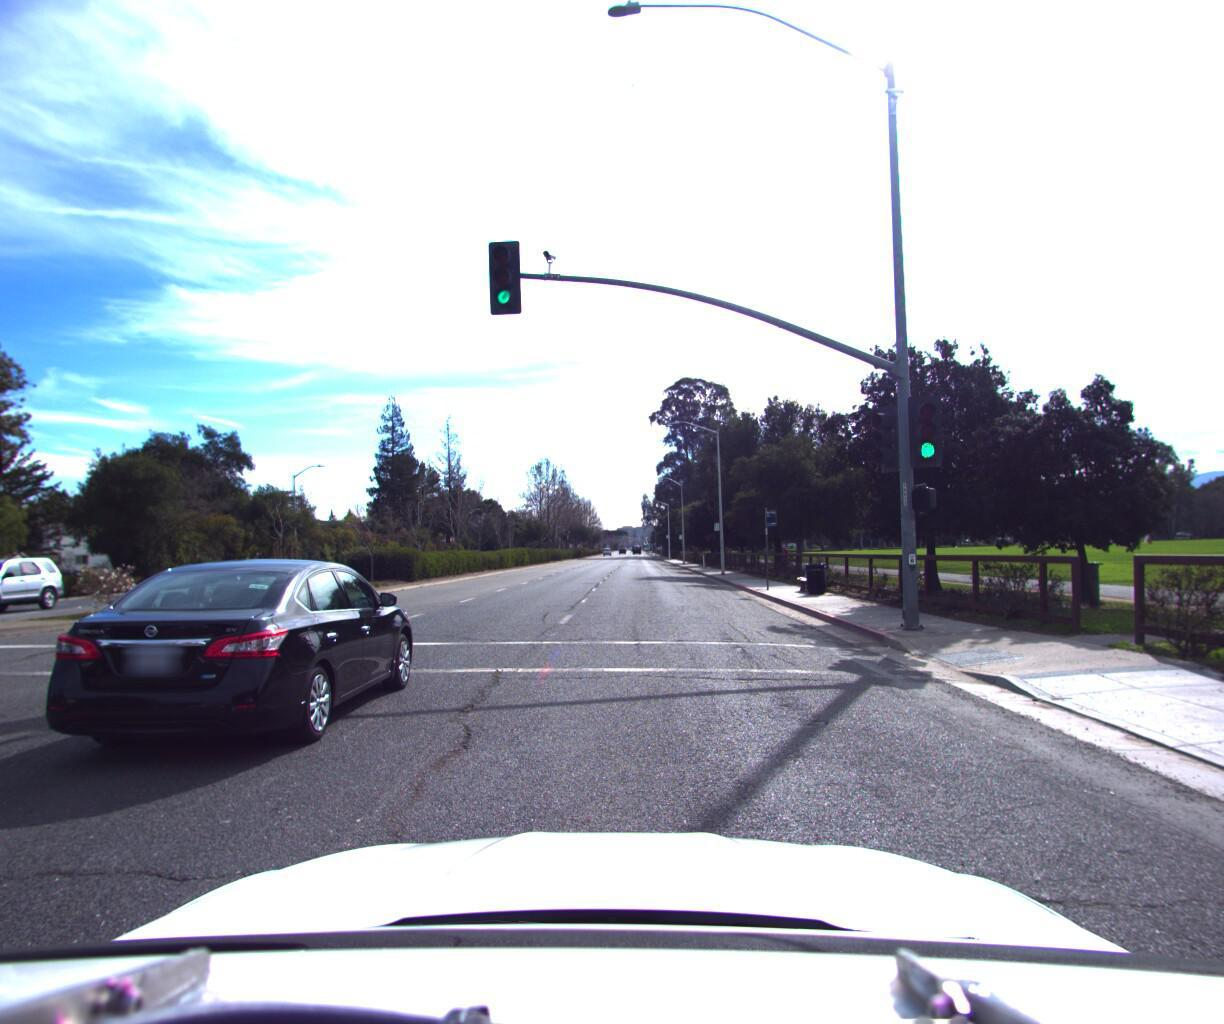car: (25, 547, 428, 783), (0, 551, 85, 620)
